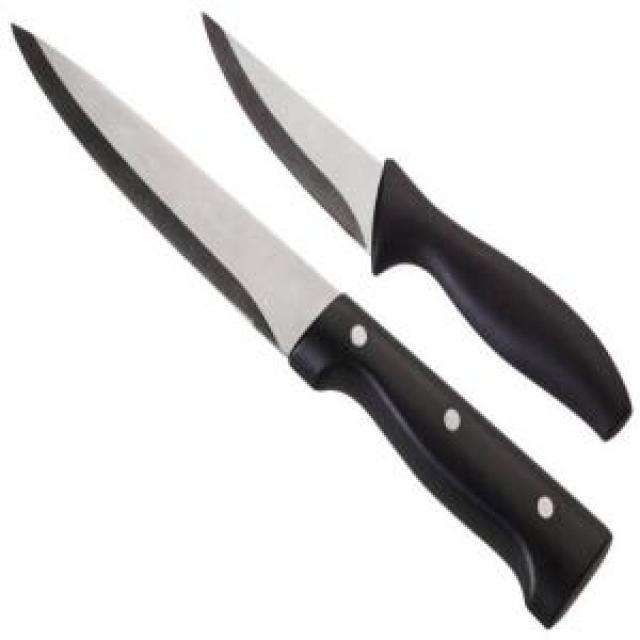knife: (11, 24, 614, 630), (194, 11, 637, 446)
